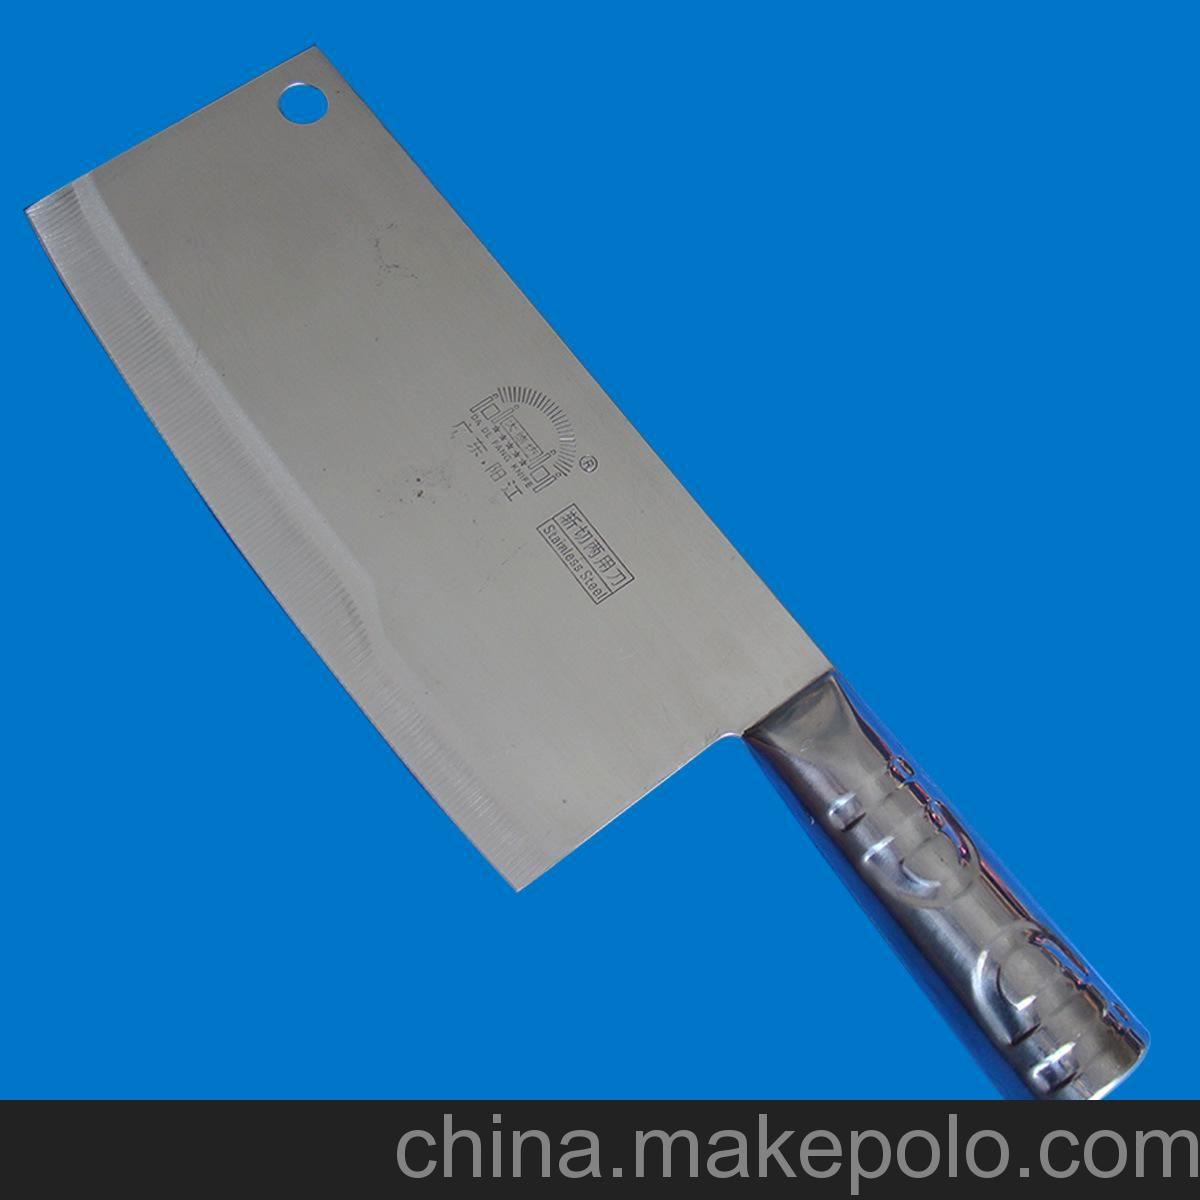knief: (62, 99, 1156, 1067)
